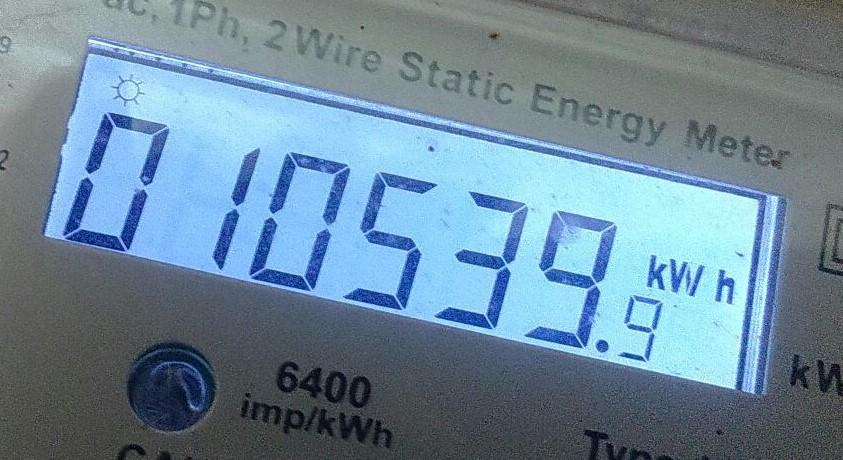.: (644, 255, 740, 312)
0: (591, 330, 617, 355)
1: (49, 112, 177, 256), (247, 143, 358, 285)
2: (193, 137, 274, 288)
4: (427, 185, 542, 336)
6: (342, 158, 445, 316)
:: (511, 198, 625, 352), (621, 292, 670, 360)
